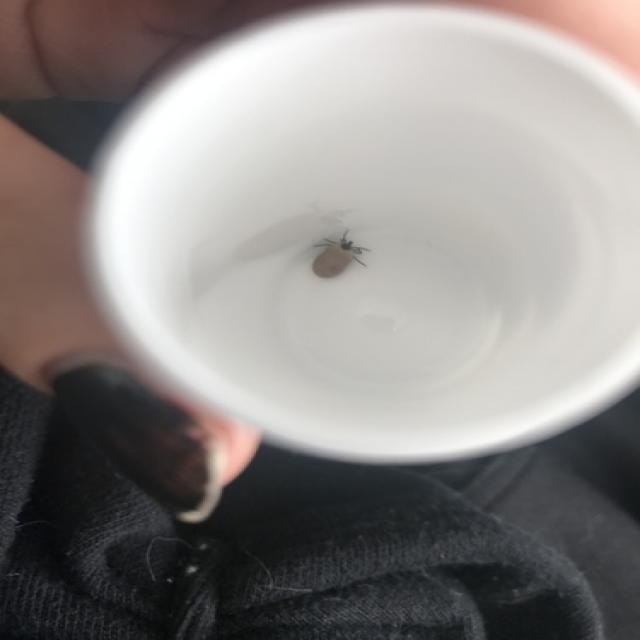Ixodes Ricinus-F-Fed: (300, 216, 375, 284)
